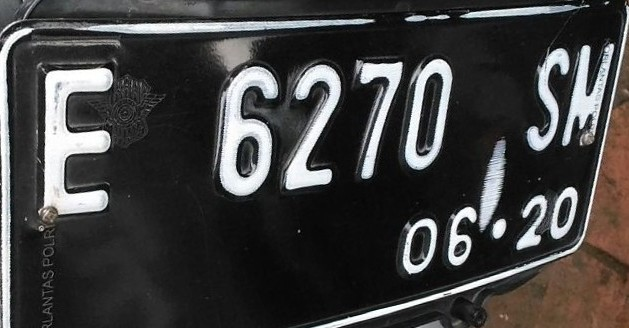plate: (4, 3, 629, 325)
